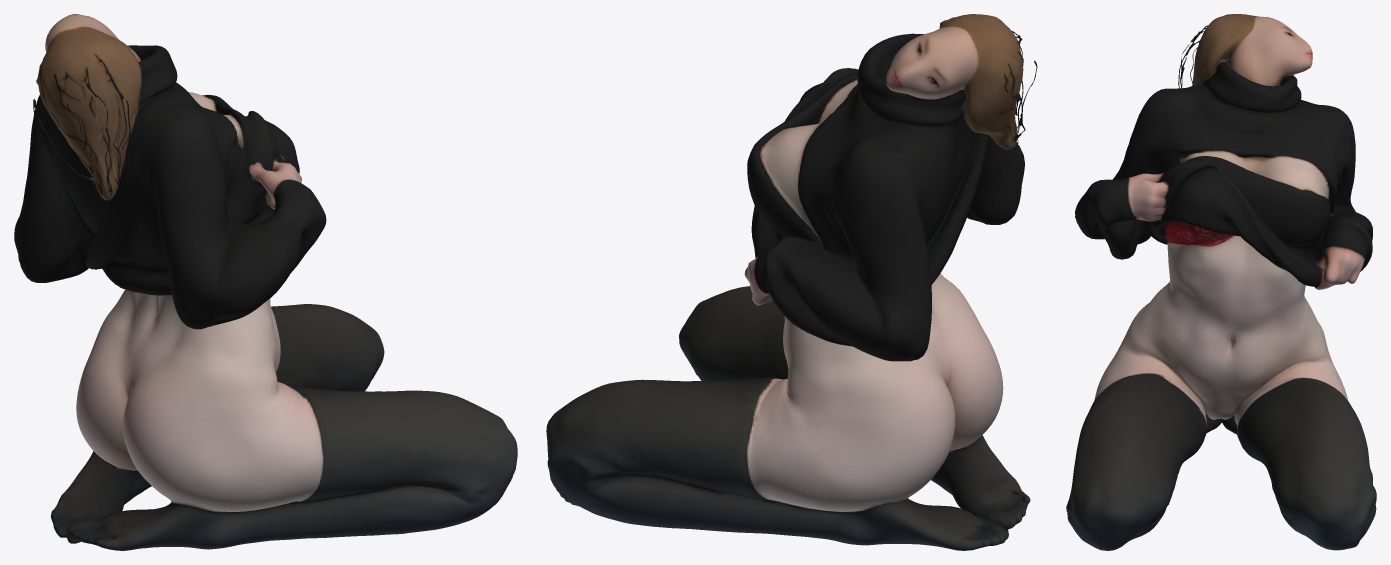
3 renders of one model, left to right at view 1: azimuth 30°, elevation 25°; view 2: azimuth 150°, elevation 25°; view 3: azimuth 270°, elevation 25°, orthographic. The views are drawn at different scales.
Visible parts, largest first — view 1: tripo_node_3ff047e7-5f0d-4376-8b7b-cd820a30e304; view 2: tripo_node_3ff047e7-5f0d-4376-8b7b-cd820a30e304; view 3: tripo_node_3ff047e7-5f0d-4376-8b7b-cd820a30e304.
Boxes of the visible parts, box(x1,y1,x2,y2) form: tripo_node_3ff047e7-5f0d-4376-8b7b-cd820a30e304: box(14, 14, 517, 550); tripo_node_3ff047e7-5f0d-4376-8b7b-cd820a30e304: box(546, 14, 1037, 550); tripo_node_3ff047e7-5f0d-4376-8b7b-cd820a30e304: box(1066, 14, 1376, 550).
Bounding box in the file's own units: 1.42 × 1.7 × 1.17.
Materials: 1 (1 with a texture image).
